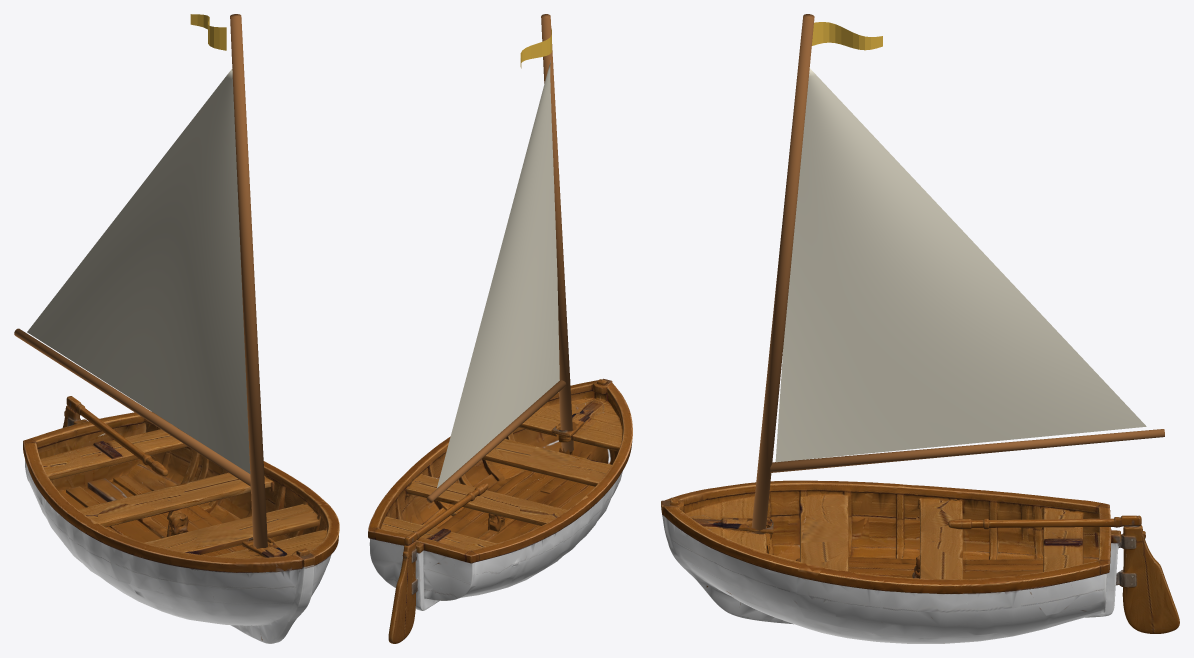
The model's file is fair-winds-boat-v2.glb.
The picture shows the model from 3 angles, left to right: view 1: azimuth 30°, elevation 25°; view 2: azimuth 150°, elevation 25°; view 3: azimuth 270°, elevation 25°; orthographic projection. The views are drawn at different scales.
Visible parts, largest first — view 1: Mainsail, InteriorWood, HullExterior, Mast, Boom, Tiller, Pennant; view 2: InteriorWood, Mainsail, HullExterior, Mast, RudderBlade, Boom, Tiller, Pennant; view 3: Mainsail, InteriorWood, HullExterior, Mast, RudderBlade, Boom, Tiller, Pennant.
Boxes of the visible parts, x1,y1,x2,y2 form: Mainsail: (27,68,250,473); InteriorWood: (23,412,339,572); HullExterior: (25,459,331,643); Mast: (230,14,267,552); Boom: (14,328,250,486); Tiller: (65,396,167,476); Pennant: (190,14,226,50); InteriorWood: (368,378,632,563); Mainsail: (437,60,559,487); HullExterior: (369,410,622,610); Mast: (541,14,573,452); RudderBlade: (388,544,417,643); Boom: (426,380,566,502); Tiller: (404,483,488,549); Pennant: (520,28,551,68); Mainsail: (775,68,1146,462); InteriorWood: (661,480,1122,593); HullExterior: (662,514,1122,643); Mast: (751,14,814,534); RudderBlade: (1122,529,1179,633); Boom: (770,429,1164,472); Tiller: (948,515,1142,530); Pennant: (812,22,882,50).
Bounding box in the file's own units: 2.77 × 8 × 6.09.
4 materials, 1 textured.
